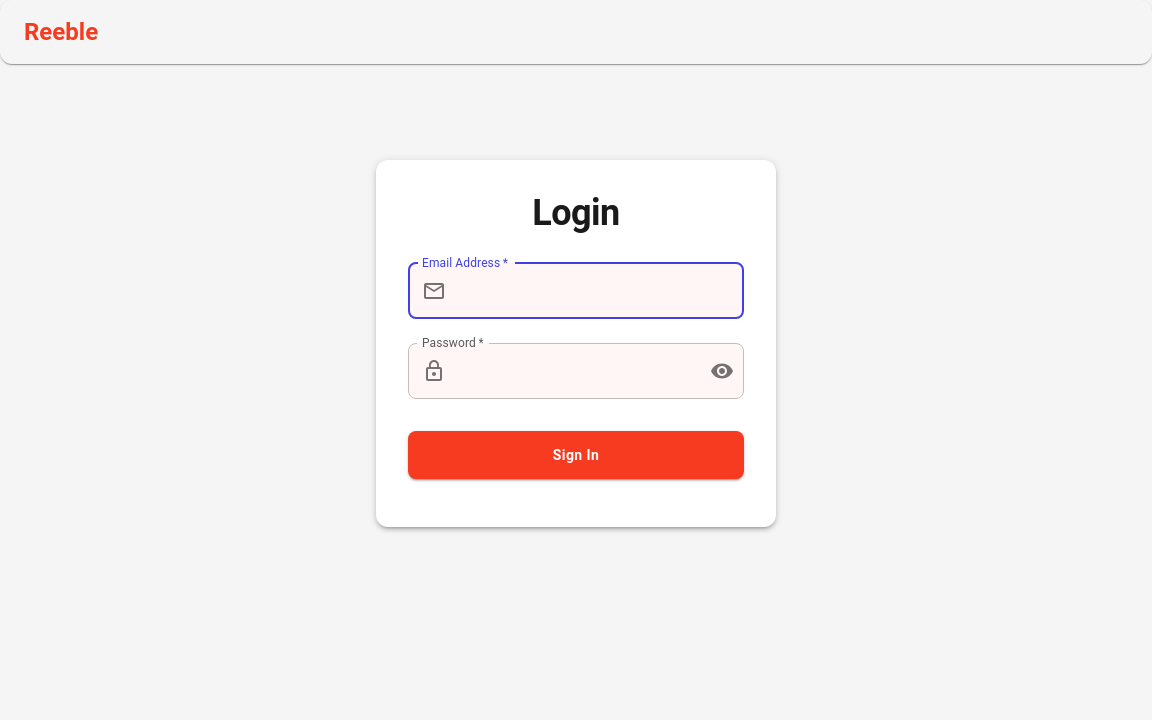
Reeble Assignment E2E Tests › Invalid Login › should show error on invalid credentials
Type "wrong@email.com" into the field named "email" at x=599, y=291, box [454, 263, 744, 319]
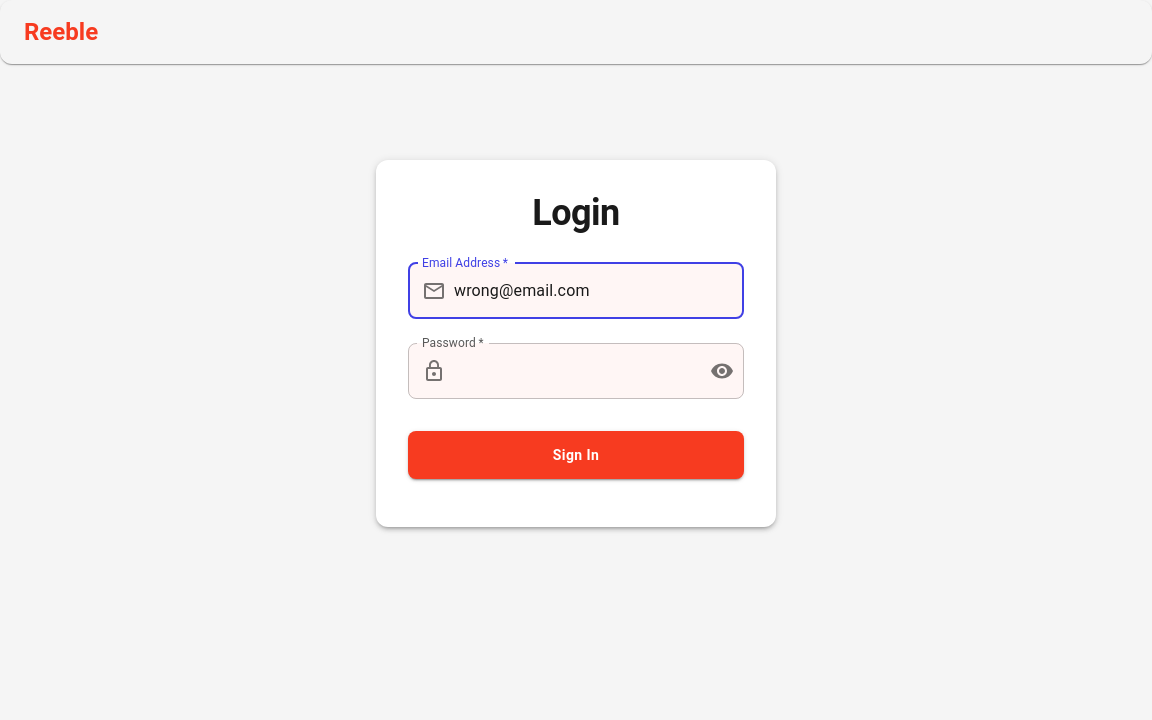
Type "wrongpass" into the password field named "password" at x=574, y=371, box [454, 343, 694, 399]
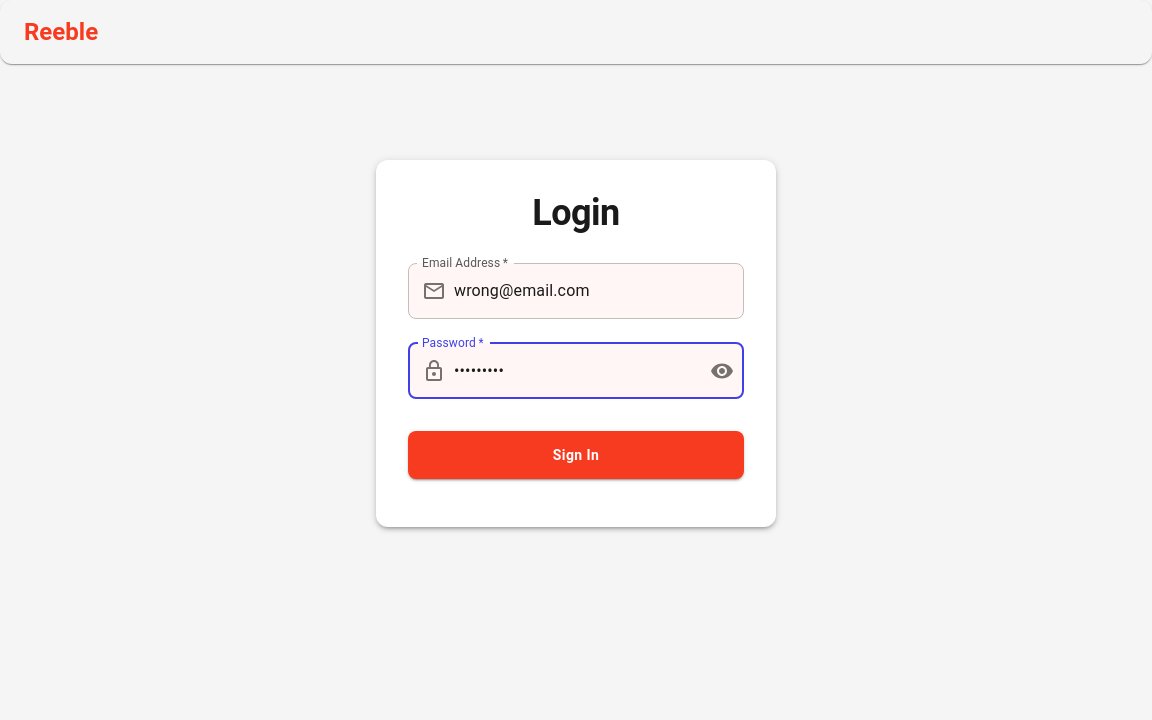
Click the submit button at x=576, y=456, box [408, 431, 744, 480]
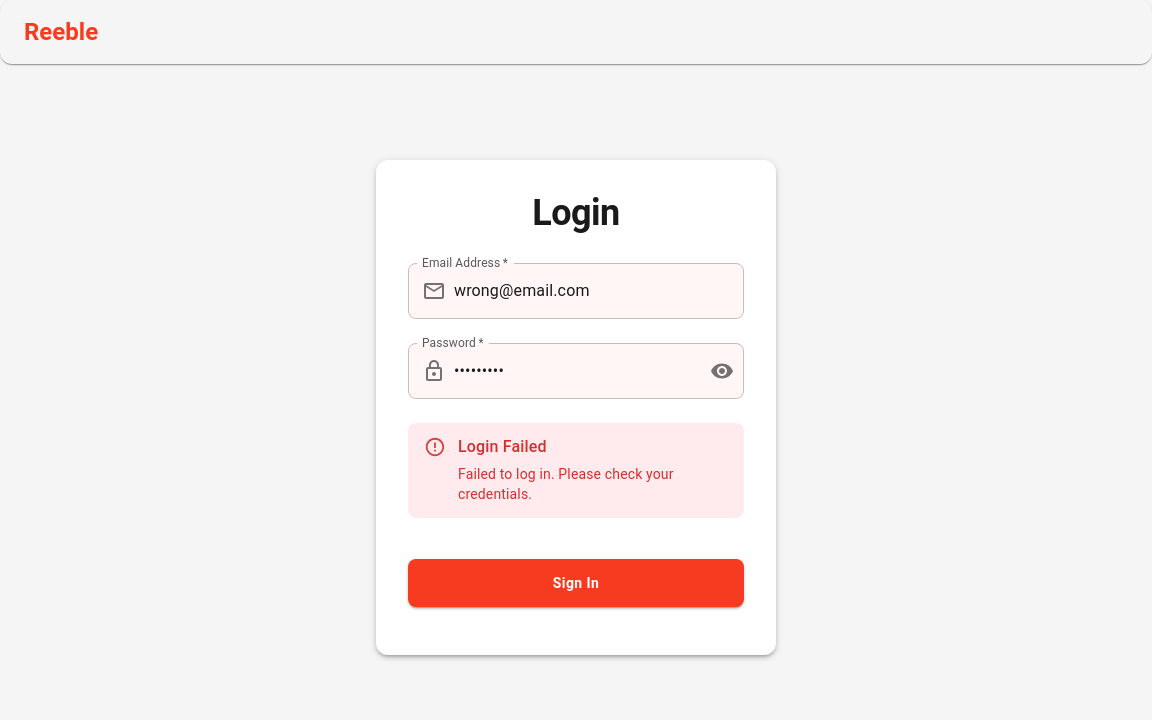
Result: the text "Failed to log in" is shown at [458, 466, 674, 502]
